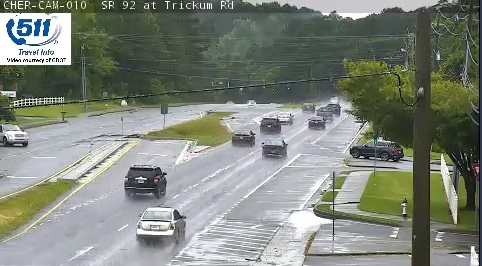car: (137, 207, 184, 239), (125, 165, 167, 193), (262, 139, 286, 156), (232, 130, 254, 145), (260, 118, 280, 133), (317, 107, 332, 121), (277, 112, 293, 124), (308, 117, 324, 128), (302, 103, 314, 111)
